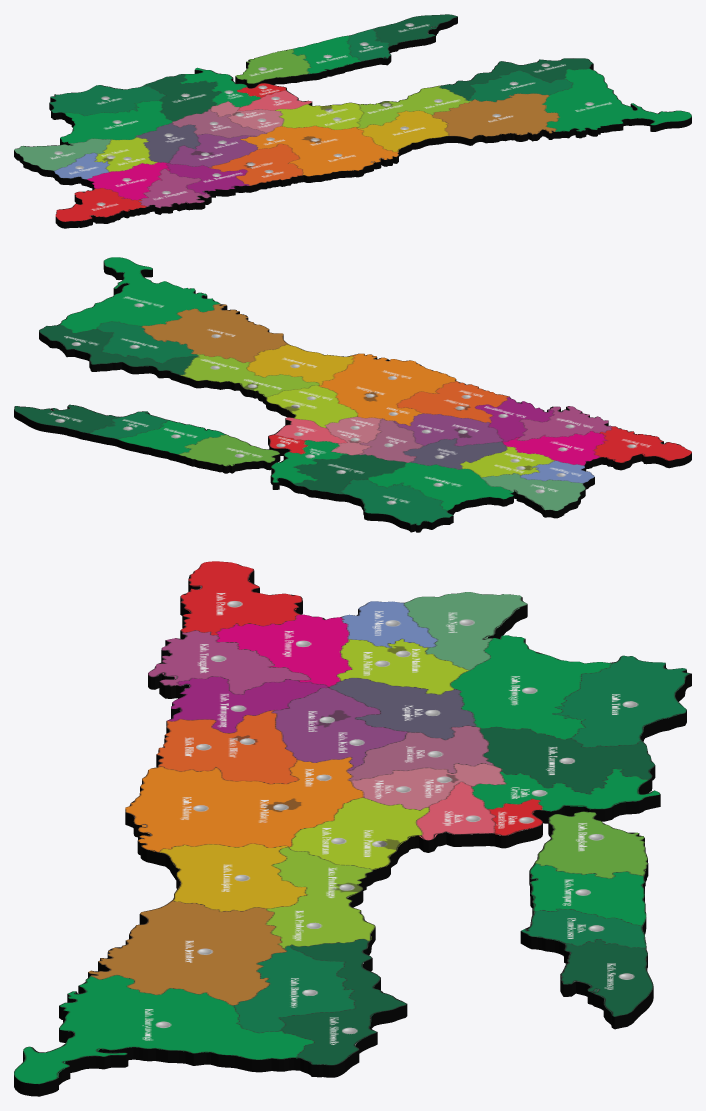
File: Peta.fbx
3 views of the same model, one above another, from view 1: azimuth 30°, elevation 25°; view 2: azimuth 150°, elevation 25°; view 3: azimuth 270°, elevation 25° (orthographic). The views are drawn at different scales.
Parts seen in each view (by area): view 1: Banyuwangi, Kabupaten Malang, Jember, Bojonegoro, Tuban, Kabupaten Blitar, Lumajang, Pacitan, Kabupaten Probolinggo, Lamongan, Situbondo, Trenggalek (+18 smaller); view 2: Banyuwangi, Kabupaten Malang, Jember, Bojonegoro, Tuban, Situbondo, Kabupaten Probolinggo, Lamongan, Pacitan, Bangkalan, Lumajang, Kabupaten Blitar (+18 smaller); view 3: Banyuwangi, Kabupaten Malang, Jember, Bojonegoro, Tuban, Situbondo, Lumajang, Kabupaten Probolinggo, Kabupaten Blitar, Lamongan, Kabupaten Pasuruan, Kabupaten Kediri (+18 smaller).
Boxes of the visible parts, x1,y1,x2,y2 form: Banyuwangi: (543,67,691,138); Kabupaten Malang: (241,126,398,182); Jember: (433,93,558,145); Bojonegoro: (60,101,172,144); Tuban: (49,85,164,120); Kabupaten Blitar: (209,143,303,192); Lumajang: (358,111,447,156); Pacitan: (55,187,146,228); Kabupaten Probolinggo: (358,86,471,127); Lamongan: (142,74,216,121); Situbondo: (439,58,593,99); Trenggalek: (132,169,211,214); Banyuwangi: (58,257,220,333); Kabupaten Malang: (319,353,456,425); Jember: (142,304,288,361); Bojonegoro: (368,462,513,514); Tuban: (345,478,453,532); Situbondo: (39,325,195,382); Kabupaten Probolinggo: (181,354,318,404); Lamongan: (293,454,406,501); Pacitan: (596,426,691,470); Bangkalan: (178,434,280,473); Lumajang: (246,344,352,385); Kabupaten Blitar: (396,381,510,423); Banyuwangi: (14,975,315,1096); Kabupaten Malang: (125,757,362,863); Jember: (88,900,282,1005); Bojonegoro: (451,635,608,738); Tuban: (554,655,691,748); Situbondo: (278,940,407,1077); Lumajang: (155,844,308,910); Kabupaten Probolinggo: (265,847,375,952); Kabupaten Blitar: (156,710,298,782); Lamongan: (480,728,655,793); Kabupaten Pasuruan: (288,797,426,881); Kabupaten Kediri: (275,687,407,770).
Size of the model in its own units: 1816 by 20.17 by 995.
